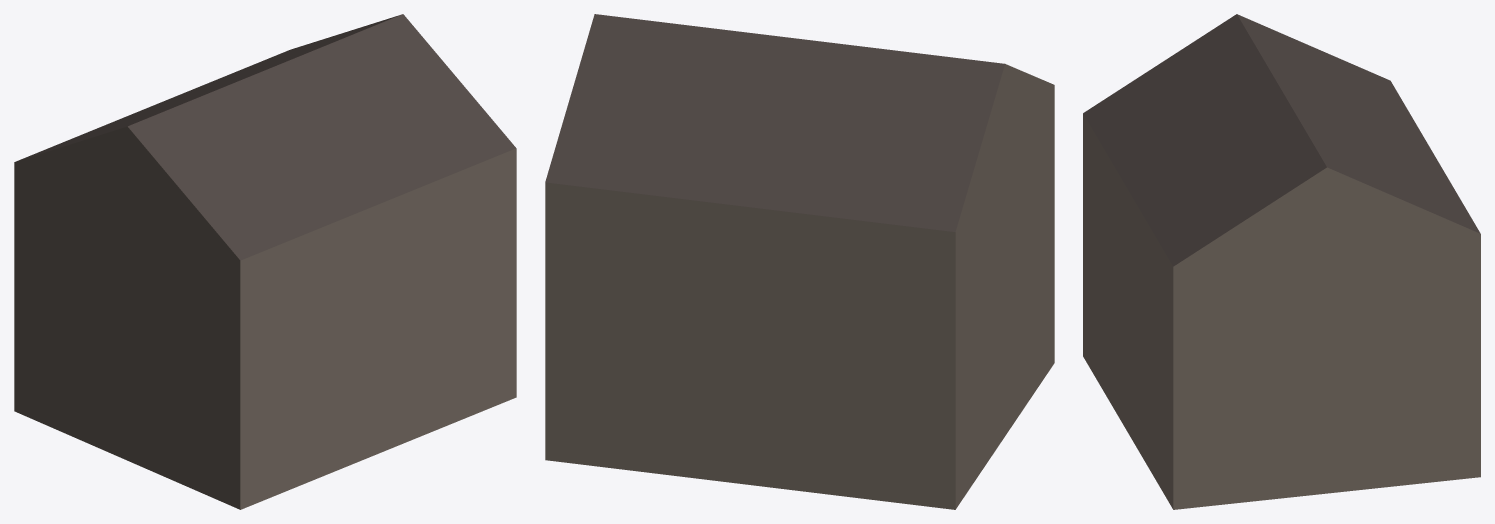
The picture shows the model from 3 angles, left to right: view 1: azimuth 30°, elevation 25°; view 2: azimuth 150°, elevation 25°; view 3: azimuth 270°, elevation 25°; orthographic projection. The views are drawn at different scales.
Parts seen in each view (by area): view 1: HP-w1376988673; view 2: HP-w1376988673; view 3: HP-w1376988673.
Part boxes in pixels (x1,y1,x2,y2): HP-w1376988673: (14, 14, 516, 509); HP-w1376988673: (545, 14, 1054, 509); HP-w1376988673: (1083, 14, 1480, 509).
Size of the model in its own units: 9.84 by 8.05 by 8.89.
